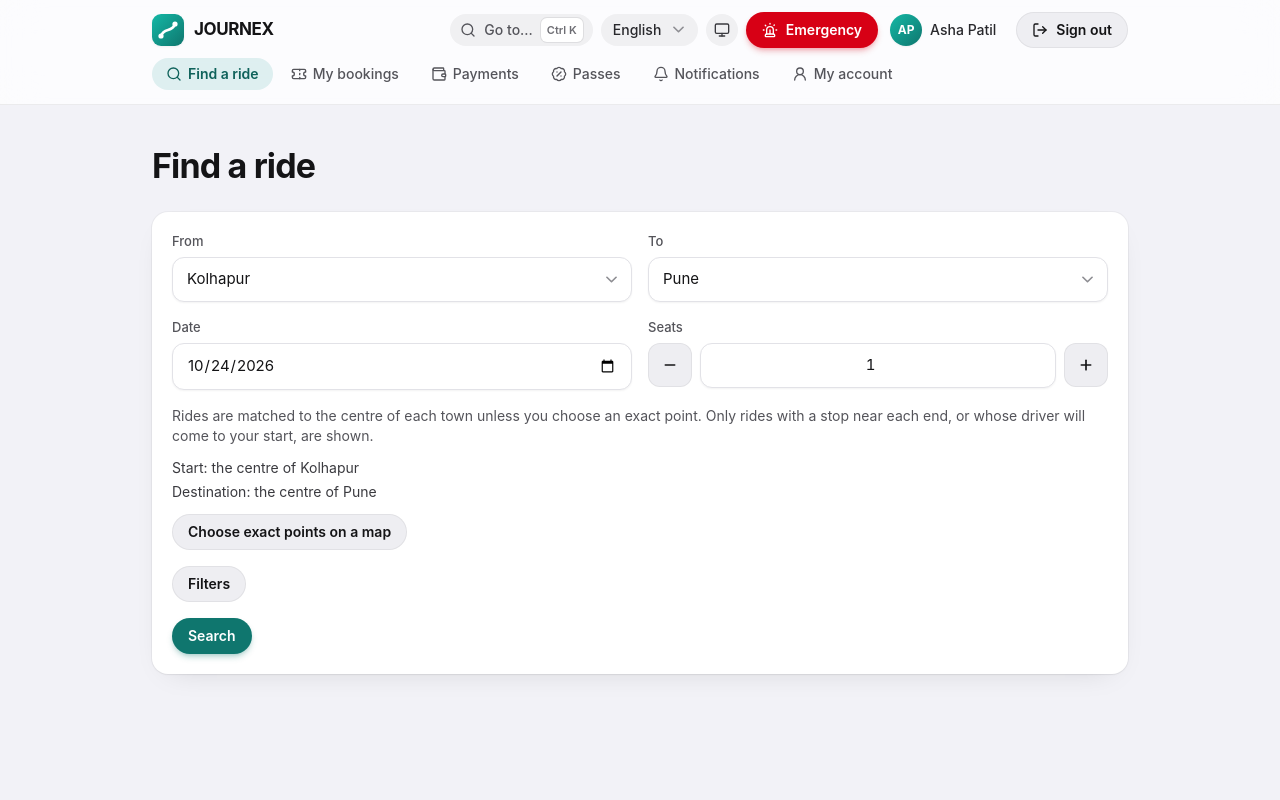
finding and booking a ride › reuses one idempotency key when the same booking is tried again after a failure
Click the button "Search" at (212,636), box left=172, top=618, right=252, bottom=654
(page scrolled)
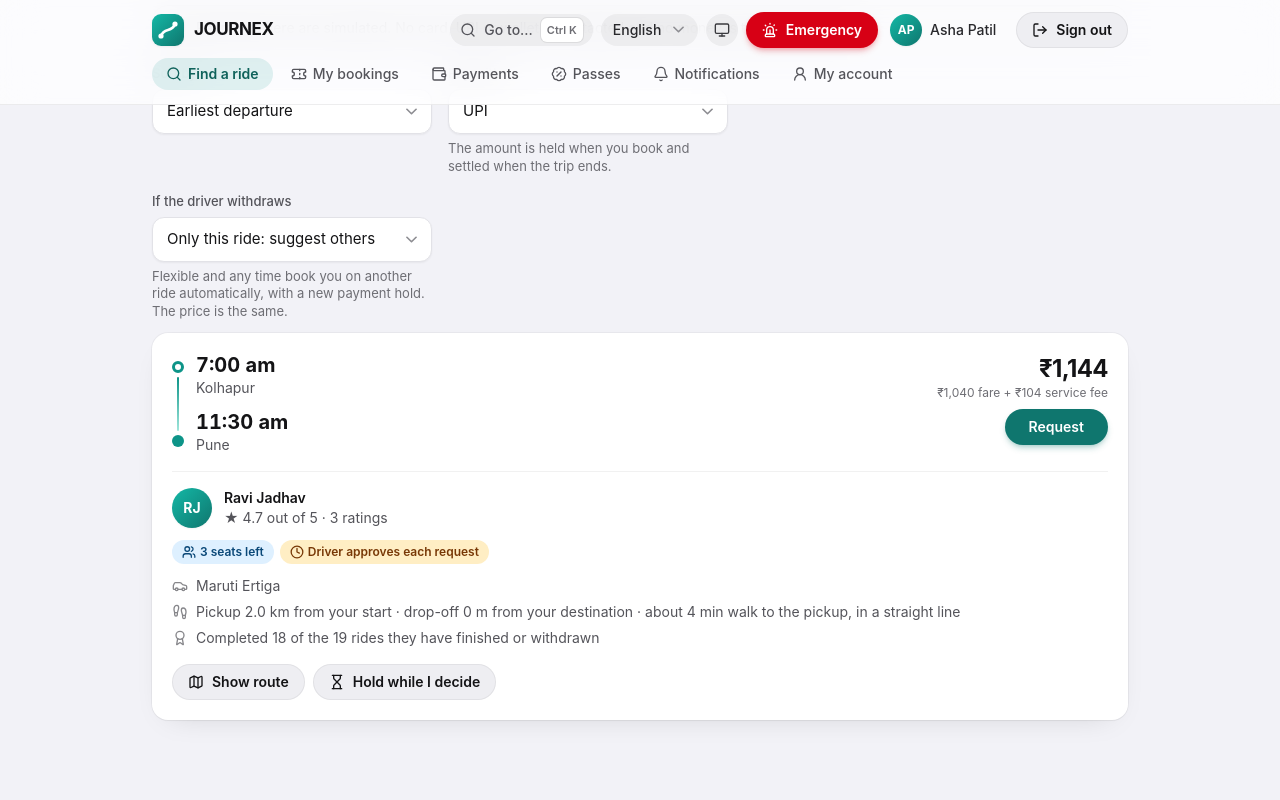
Click the button "Request" at (1056,427), box left=1004, top=409, right=1108, bottom=445
(page scrolled)
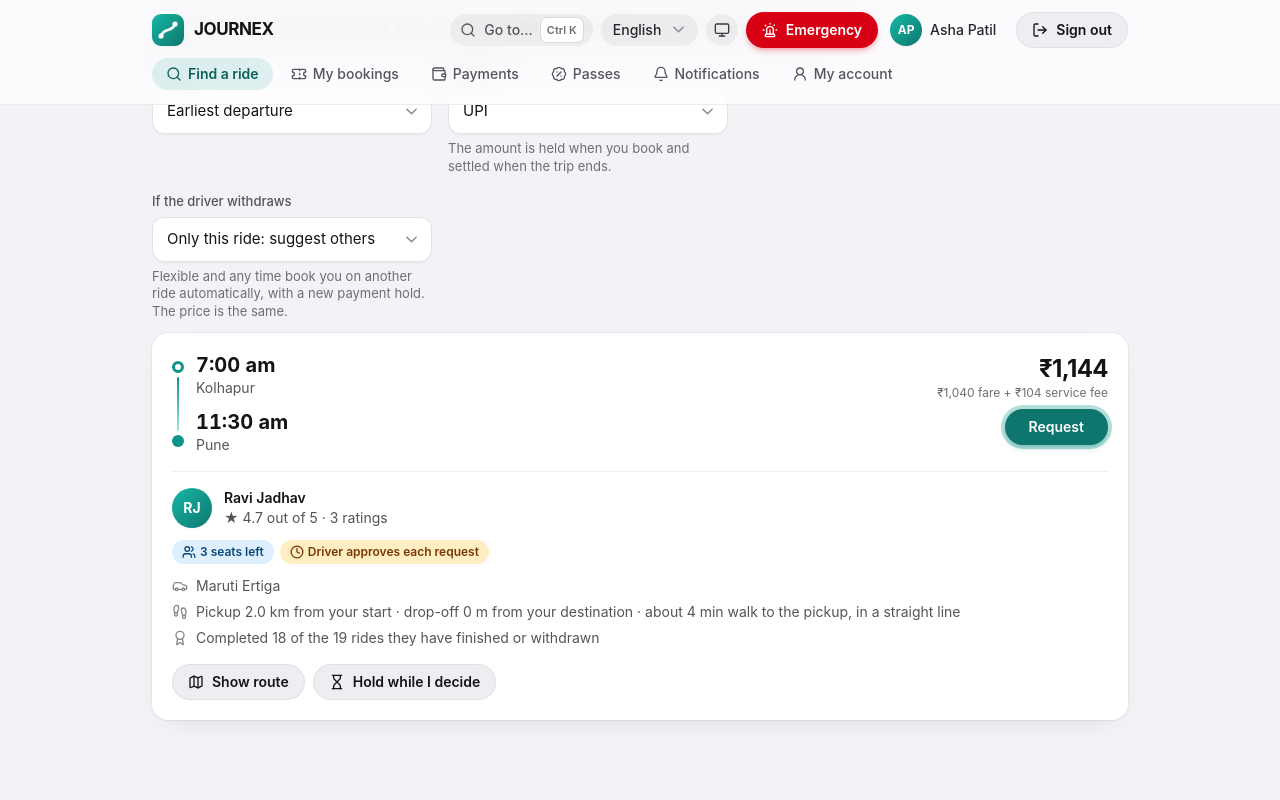
Click the button "Request" at (1056,427), box left=1004, top=409, right=1108, bottom=445
(page scrolled)
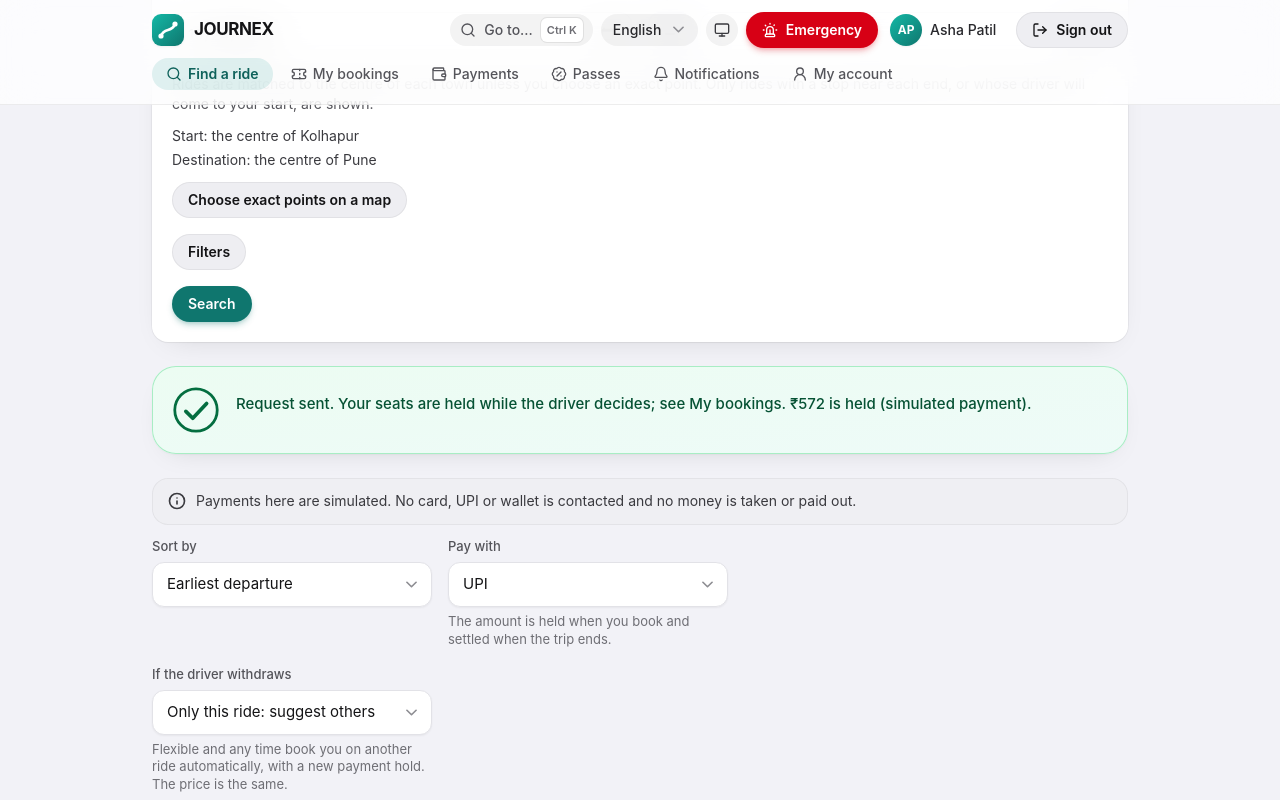
Check: the text "Request sent" is shown, box left=236, top=394, right=786, bottom=412
